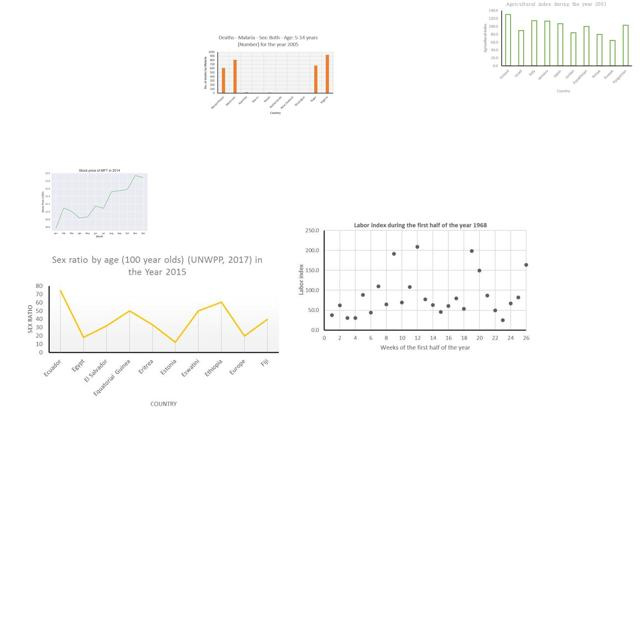Graph: (23, 251, 281, 410), (297, 219, 531, 352), (479, 0, 635, 93), (202, 33, 336, 116), (36, 159, 160, 244)
